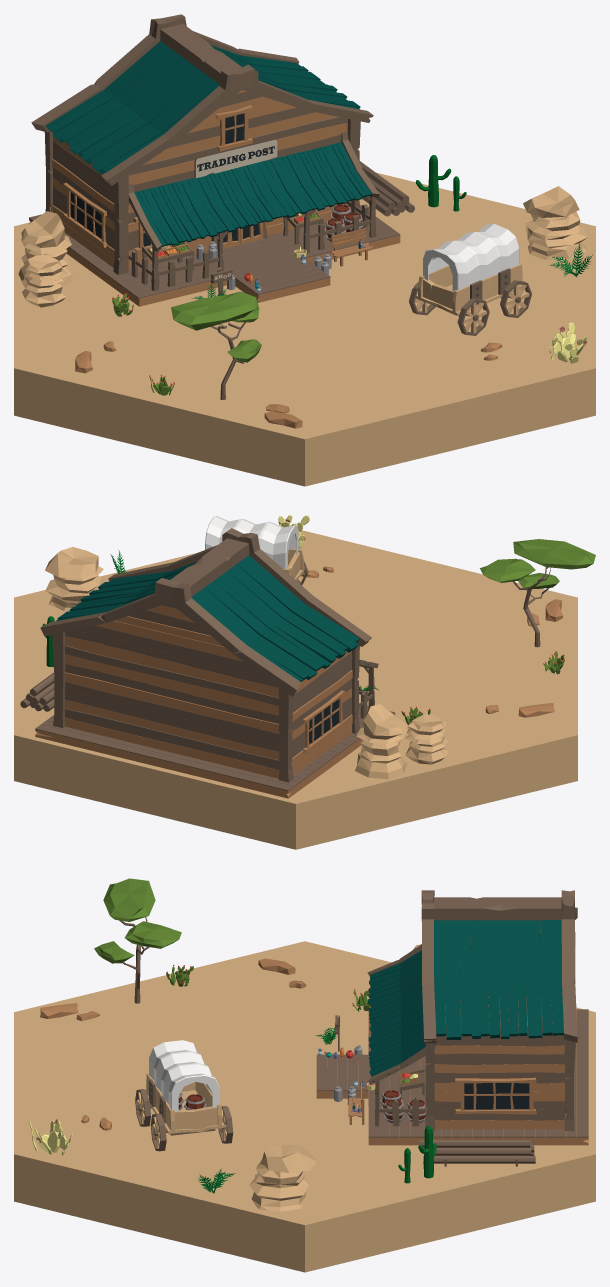
File: Tile_23.fbx
3 views of the same model, one above another, from view 1: azimuth 30°, elevation 25°; view 2: azimuth 150°, elevation 25°; view 3: azimuth 270°, elevation 25° (orthographic). The views are drawn at different scales.
Parts seen in each view (by area): view 1: Tile_23_Base, Tile_23_Trading_post_Building, Tile_23, Tile_23_Platform, Tile_23_Cart, Tile_23_Tree, Tile_23_sighnbord_Trading_post, Tile_23_Logs, Tile_23_Bunch; view 2: Tile_23_Base, Tile_23_Trading_post_Building, Tile_23, Tile_23_Platform, Tile_23_Tree, Tile_23_Cart, Tile_23_Logs; view 3: Tile_23_Base, Tile_23_Trading_post_Building, Tile_23, Tile_23_Platform, Tile_23_Cart, Tile_23_Tree, Tile_23_Logs.
Part boxes in pixels (x1,y1,x2,y2): Tile_23_Base: (14,172,595,486); Tile_23_Trading_post_Building: (31,14,379,291); Tile_23: (18,155,592,428); Tile_23_Platform: (29,205,400,306); Tile_23_Cart: (409,223,531,335); Tile_23_Tree: (171,291,261,399); Tile_23_sighnbord_Trading_post: (194,139,277,178); Tile_23_Logs: (359,161,414,216); Tile_23_Bunch: (330,227,372,266); Tile_23_Base: (14,530,577,849); Tile_23_Trading_post_Building: (40,528,378,782); Tile_23: (42,515,564,779); Tile_23_Platform: (35,705,395,798); Tile_23_Tree: (480,539,595,647); Tile_23_Cart: (205,516,308,585); Tile_23_Logs: (20,672,54,711); Tile_23_Base: (14,941,595,1272); Tile_23_Trading_post_Building: (367,890,577,1130); Tile_23: (29,944,436,1211); Tile_23_Platform: (316,1009,588,1145); Tile_23_Cart: (135,1040,233,1151); Tile_23_Tree: (94,878,181,1003); Tile_23_Logs: (420,1140,535,1166).
Bounding box in the file's own units: 2318 × 2007 × 879.
